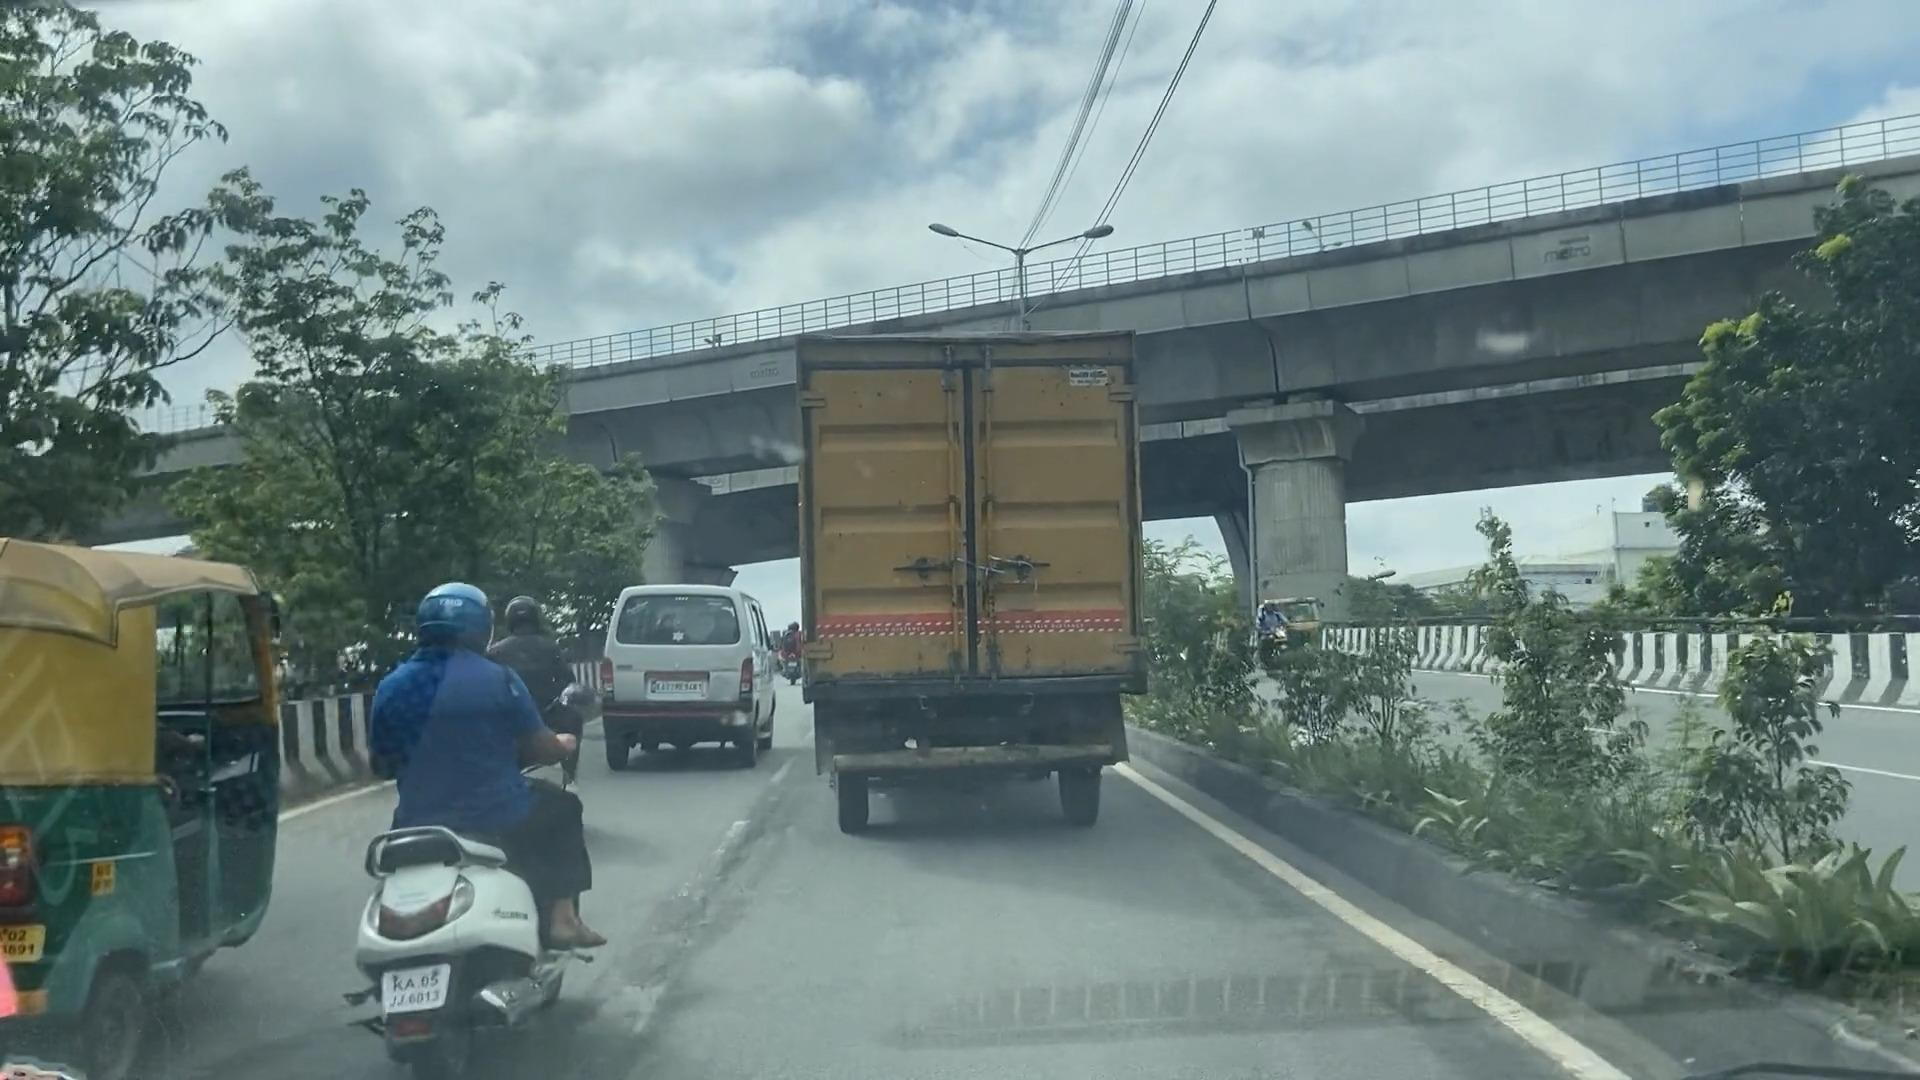HMV: (790, 334, 1114, 810)
LMV: (360, 583, 513, 1043), (607, 583, 746, 758)
